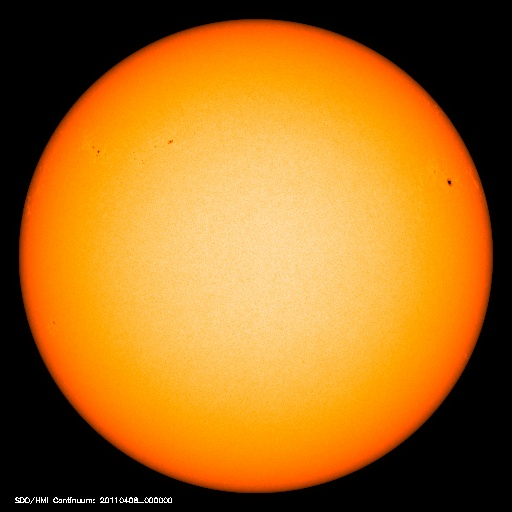sunspot: (429, 164, 461, 192), (82, 133, 108, 160), (148, 130, 183, 150)
